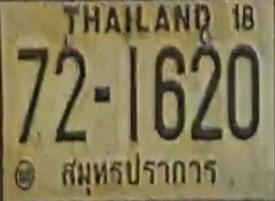0: (227, 44, 260, 140)
1: (127, 46, 139, 141)
2: (54, 46, 90, 143), (190, 45, 226, 141)
6: (152, 45, 184, 140)
7: (16, 46, 50, 143)
SPK: (58, 150, 219, 196)
